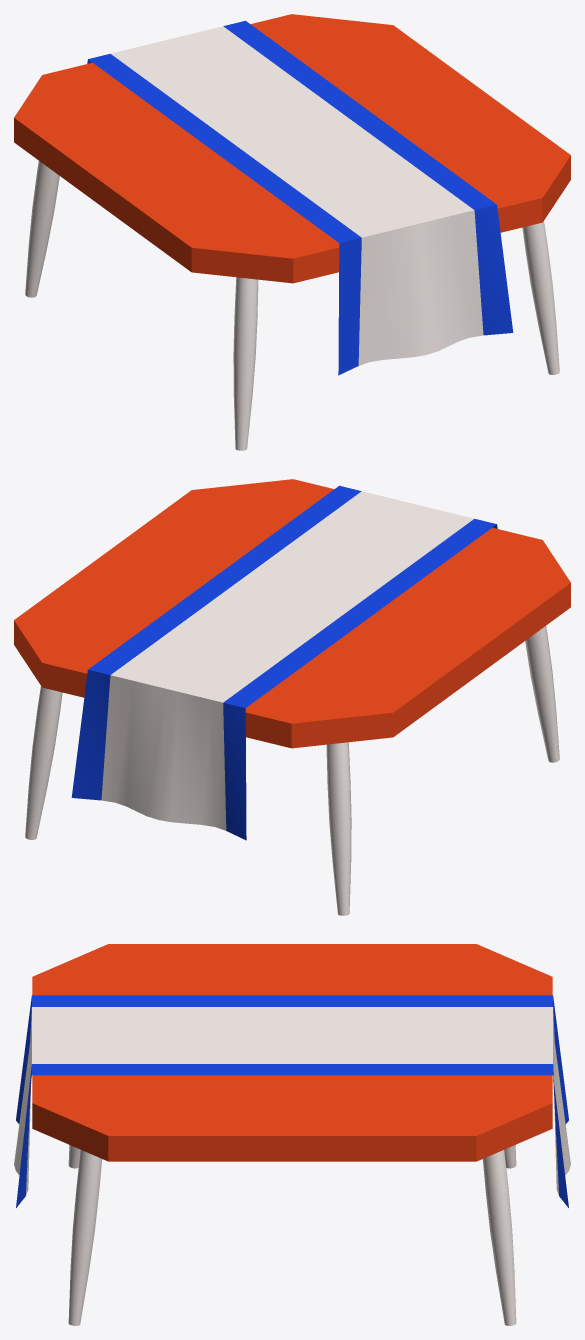
File: ban 1_05.FBX
3 views of the same model, one above another, from view 1: azimuth 30°, elevation 25°; view 2: azimuth 150°, elevation 25°; view 3: azimuth 270°, elevation 25° (orthographic). The views are drawn at different scales.
Visible parts, largest first — view 1: Box1236; view 2: Box1236; view 3: Box1236.
Boxes of the visible parts, x1,y1,x2,y2 form: Box1236: (14,14,570,450); Box1236: (14,479,570,915); Box1236: (14,944,570,1325).
Bounding box in the file's own units: 2.75 × 1.4 × 3.38.
